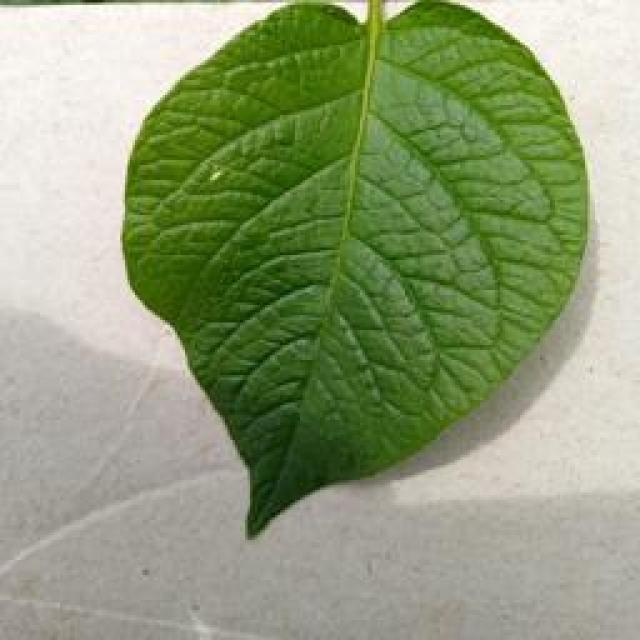healthy: (115, 0, 595, 540)
